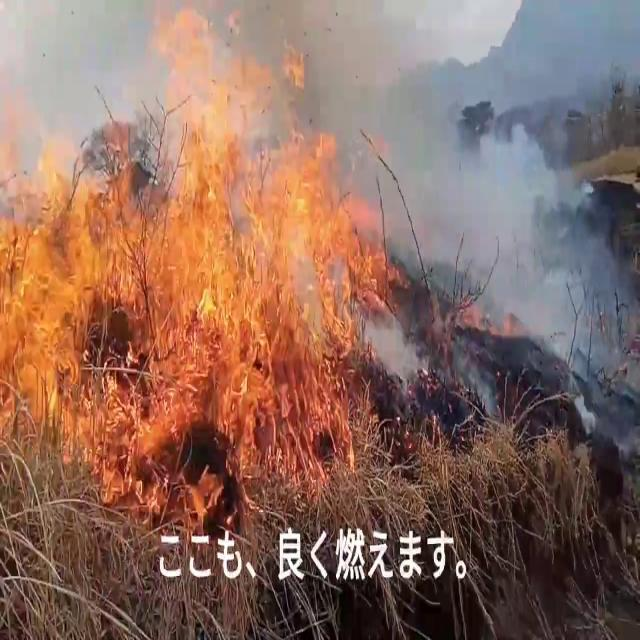Fire: (0, 35, 400, 478)
Smoke: (312, 1, 640, 388)
